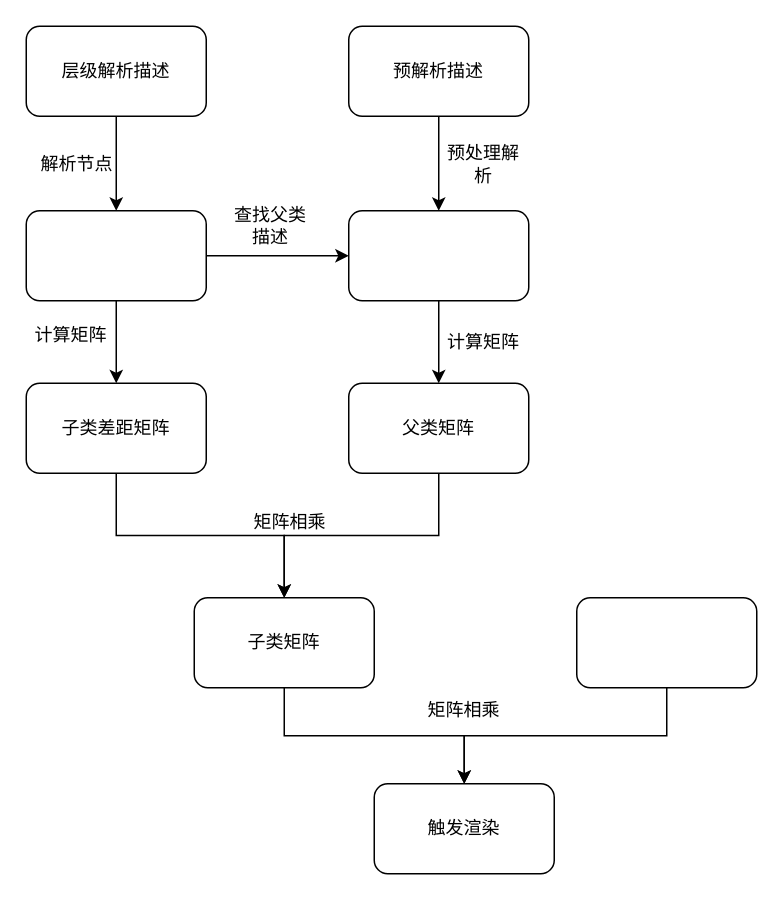
This 783x900 diagram has some shape labels left out. Here are the shapes that lost their labels. From the top down, the centre of each, then its label:
At pixel 115 255: "子类矩阵描述".
At pixel 438 255: "父类描述".
At pixel 666 642: "世界矩阵".
